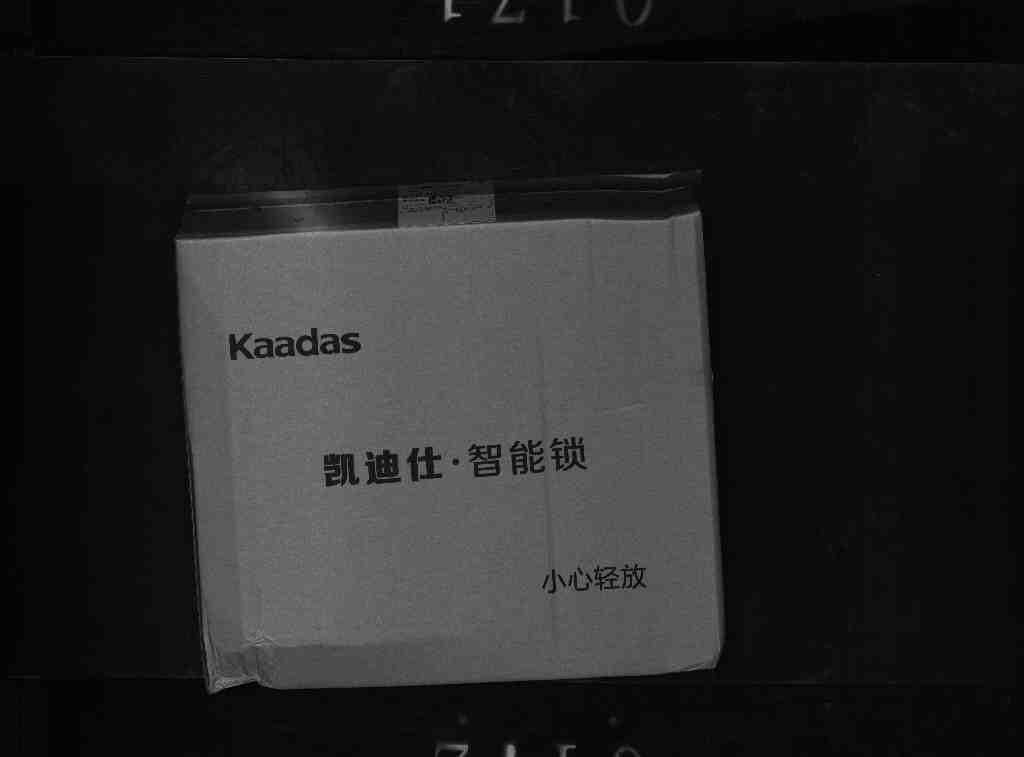box: (157, 169, 727, 686)
